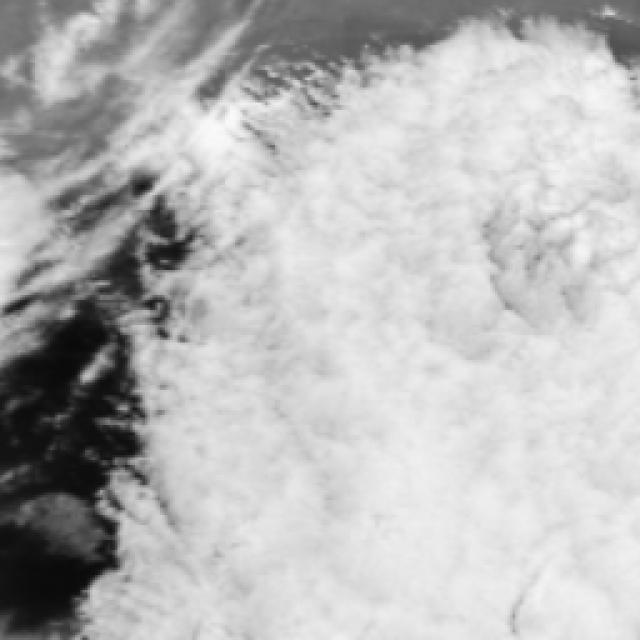CB: (284, 274, 465, 474), (437, 258, 640, 435), (462, 442, 640, 640), (444, 87, 640, 247), (282, 467, 452, 640), (294, 121, 469, 269), (165, 435, 287, 640), (195, 286, 332, 443)
